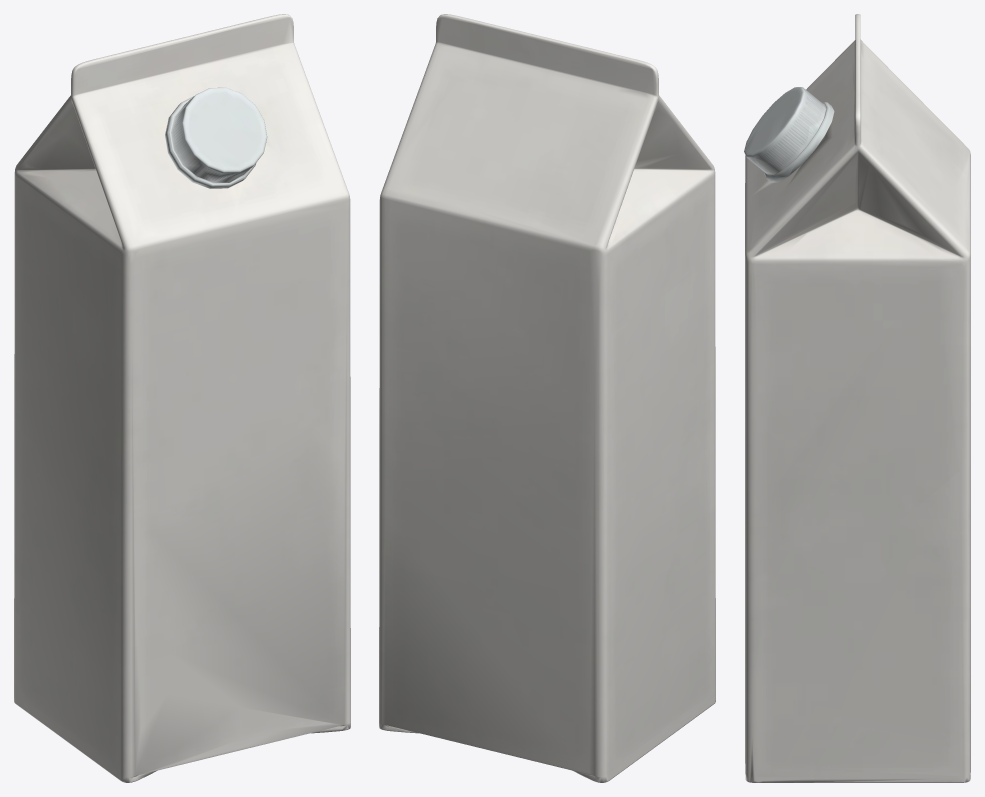
The model's file is juice-box.min.glb.
The picture shows the model from 3 angles, left to right: view 1: azimuth 30°, elevation 25°; view 2: azimuth 150°, elevation 25°; view 3: azimuth 270°, elevation 25°; orthographic projection.
Visible parts, largest first — view 1: juice-box-004; view 2: juice-box-004; view 3: juice-box-004.
Boxes of the visible parts, x1,y1,x2,y2 form: juice-box-004: [14, 14, 350, 782]; juice-box-004: [379, 14, 715, 782]; juice-box-004: [744, 14, 970, 782].
Size of the model in its own units: 0.0925 by 0.2611 by 0.0807.
1 material, 1 textured.
